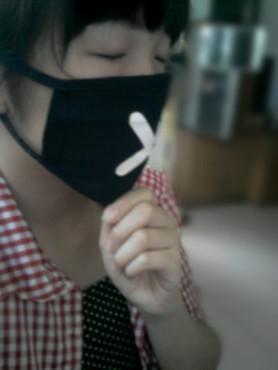face_mask: (43, 40, 169, 206)
